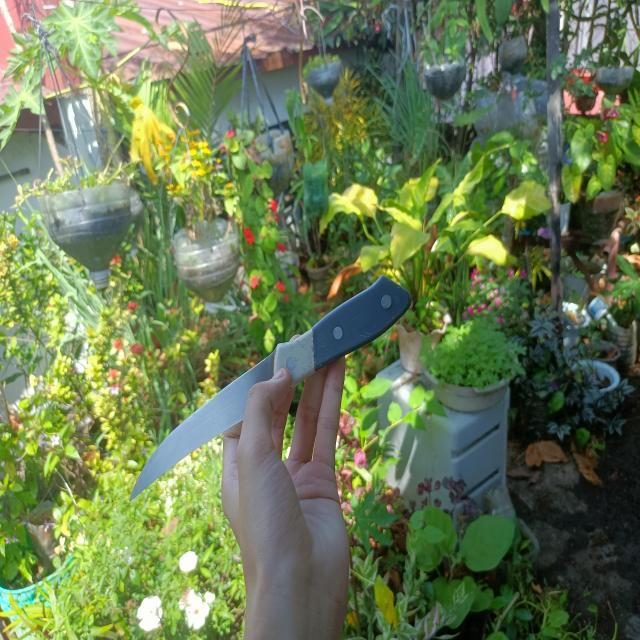knife: (131, 274, 412, 500)
